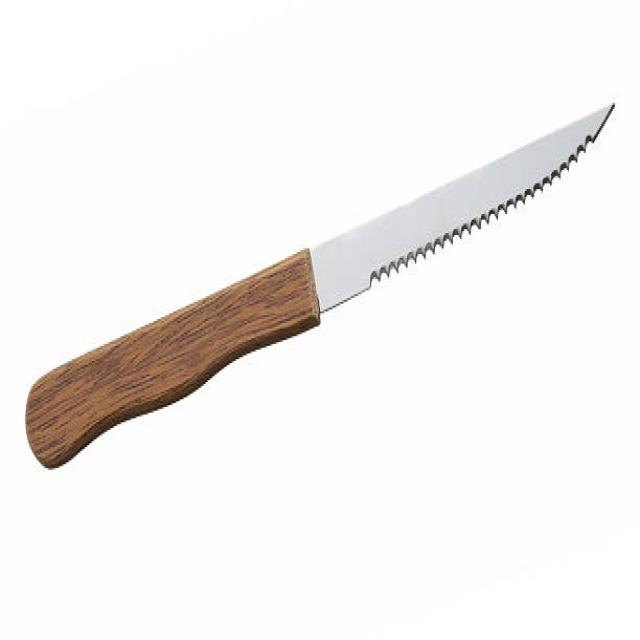knife: (21, 85, 630, 482)
